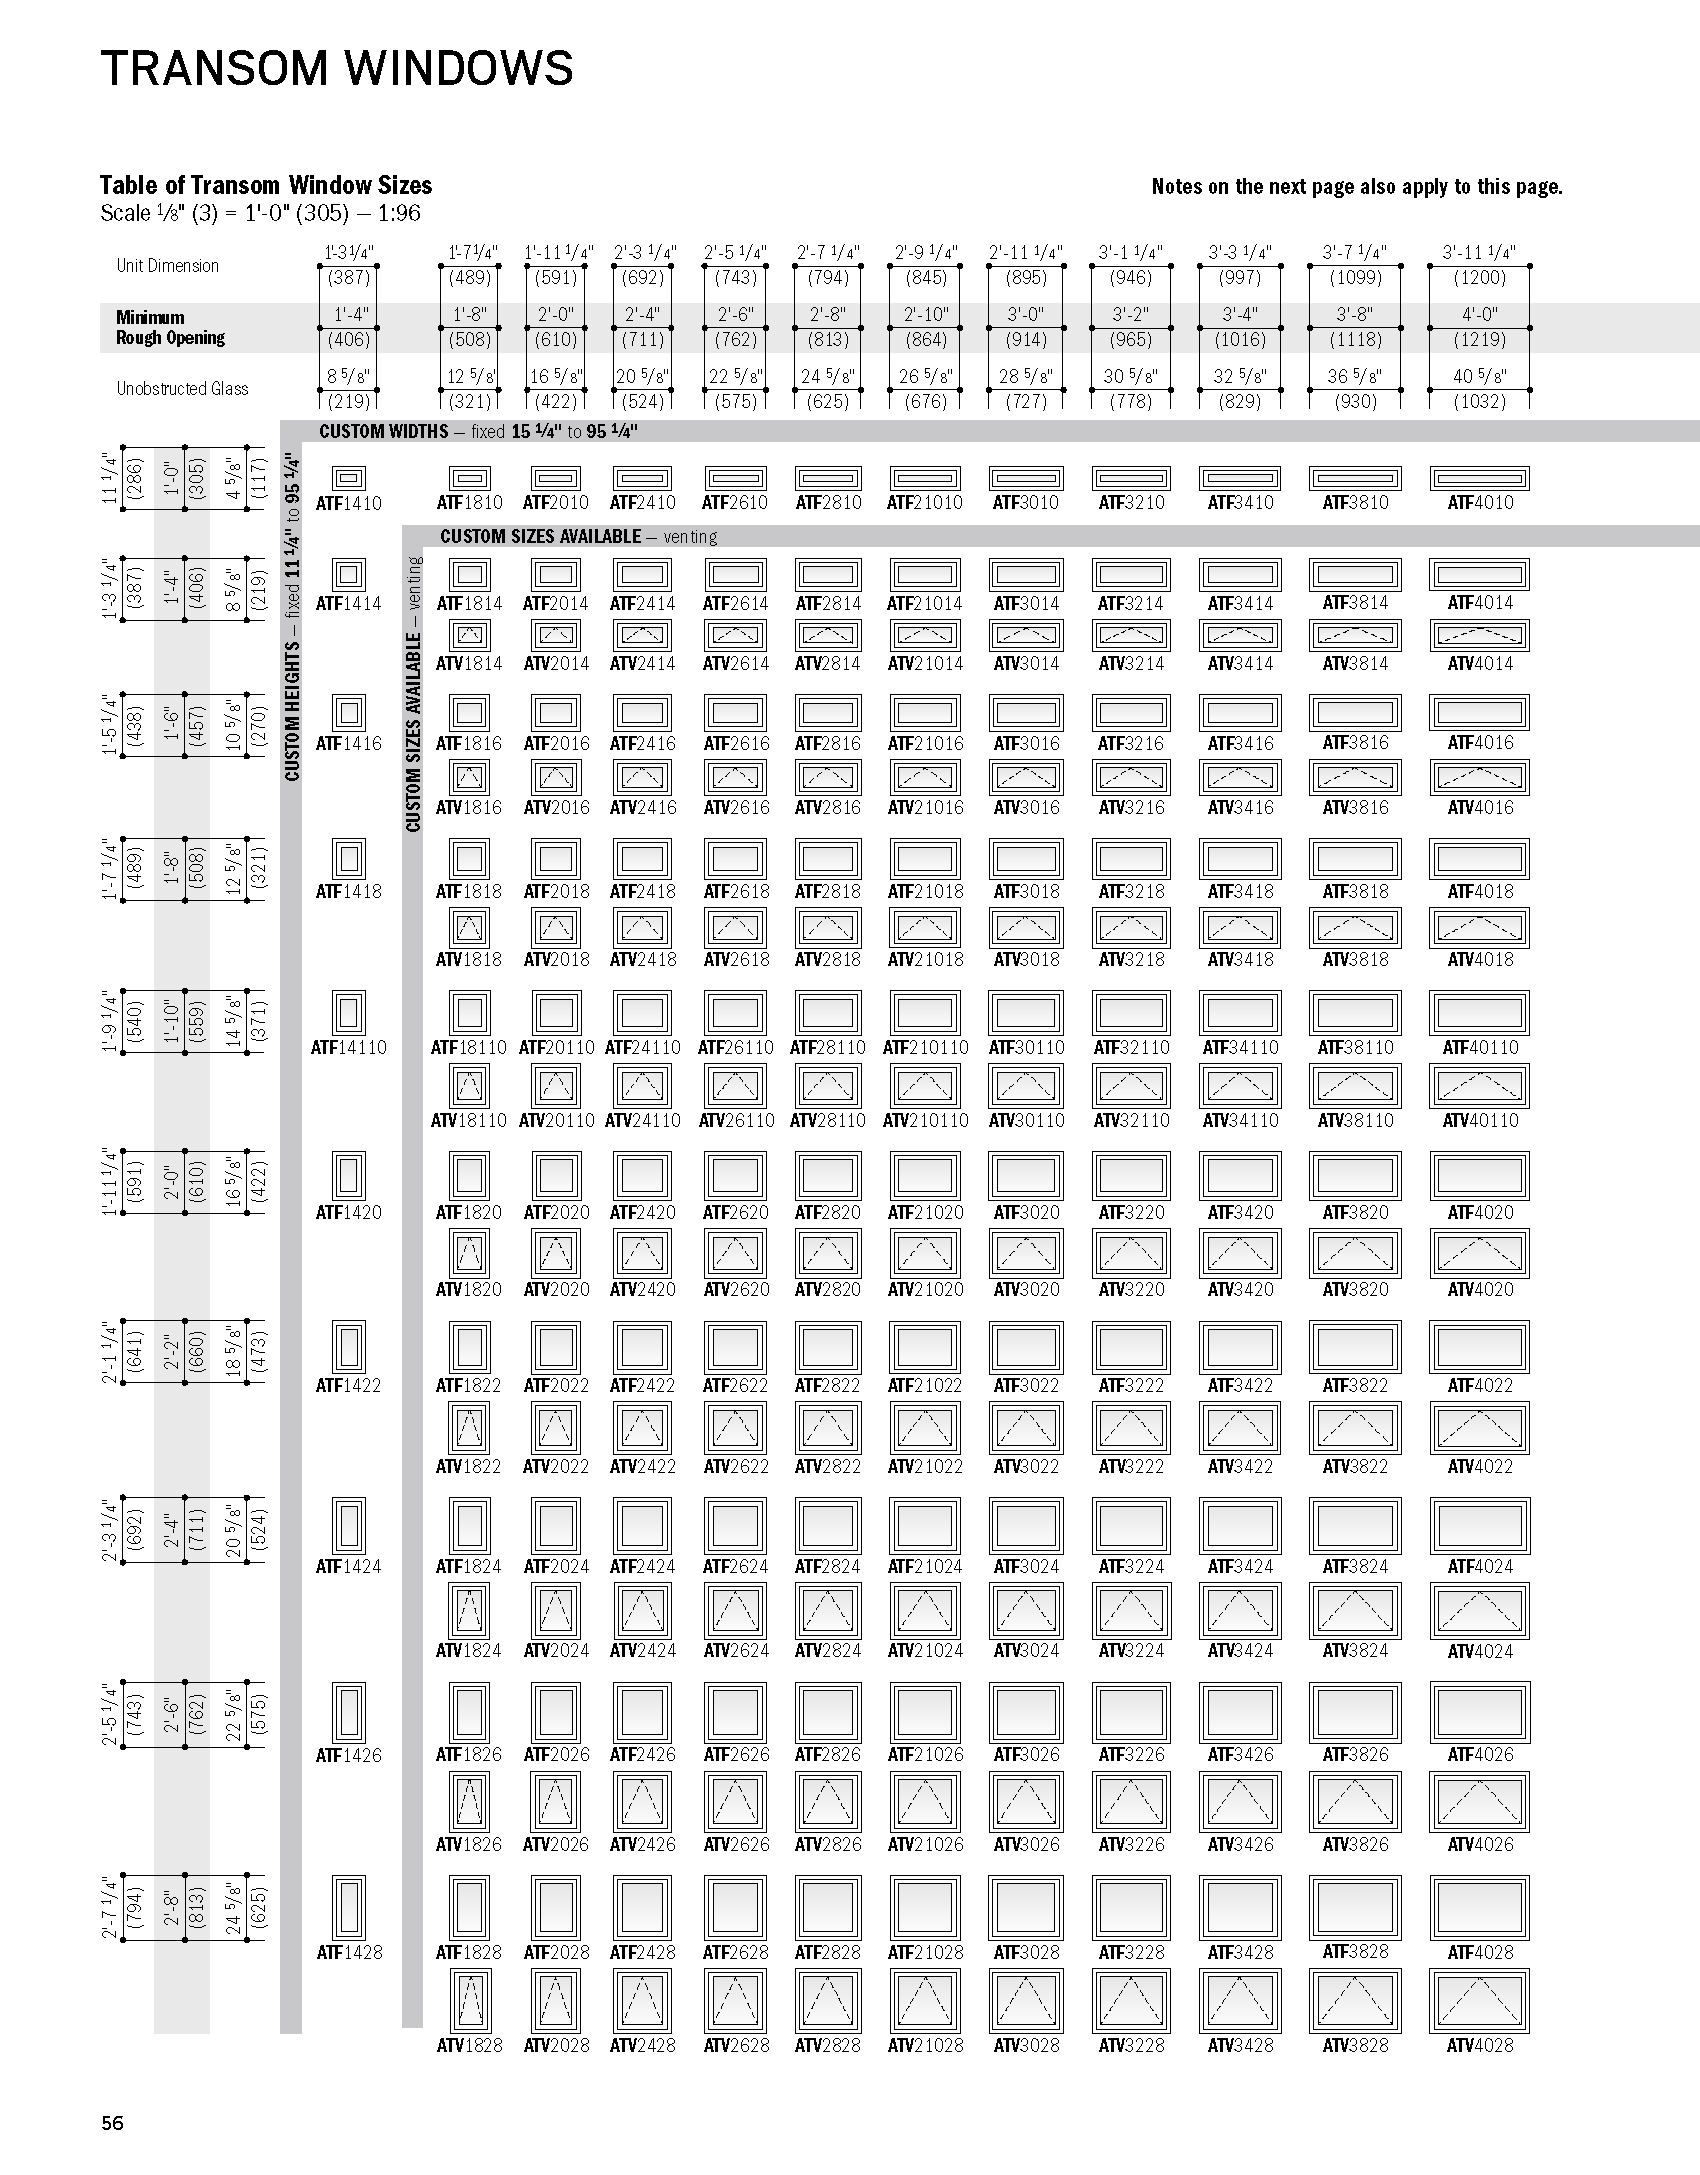tabledetected: (94, 237, 1532, 2053)
